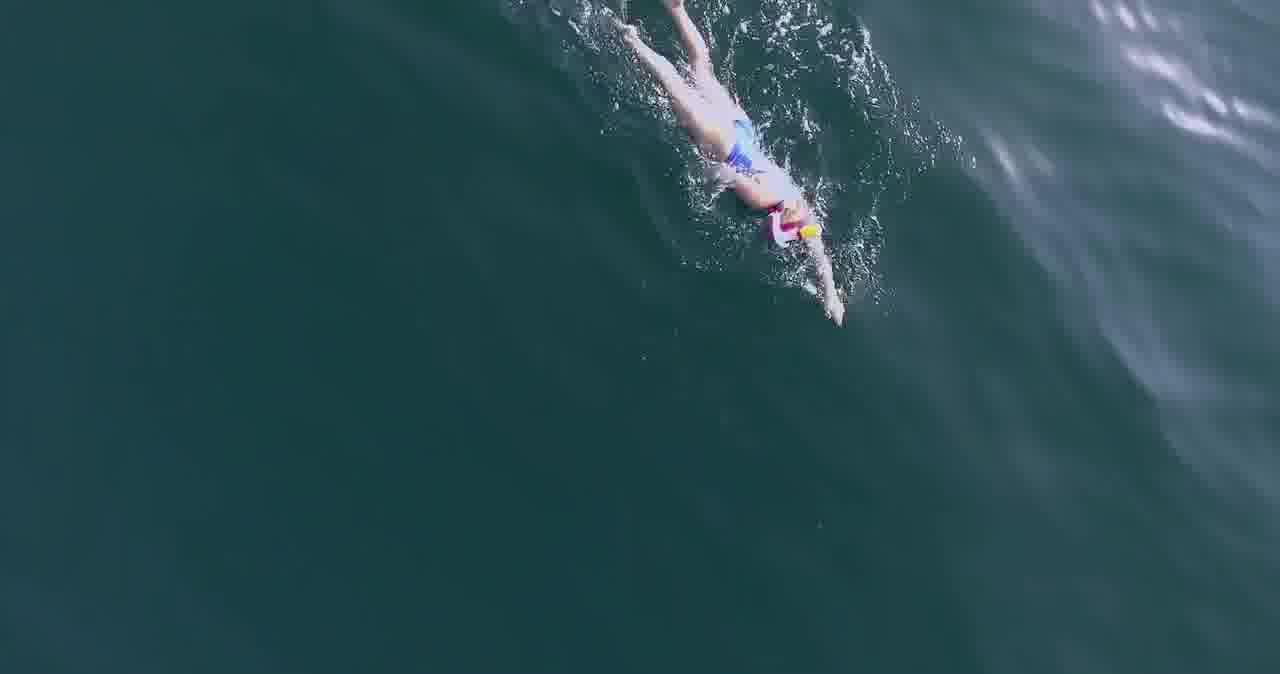human: (603, 1, 855, 330)
